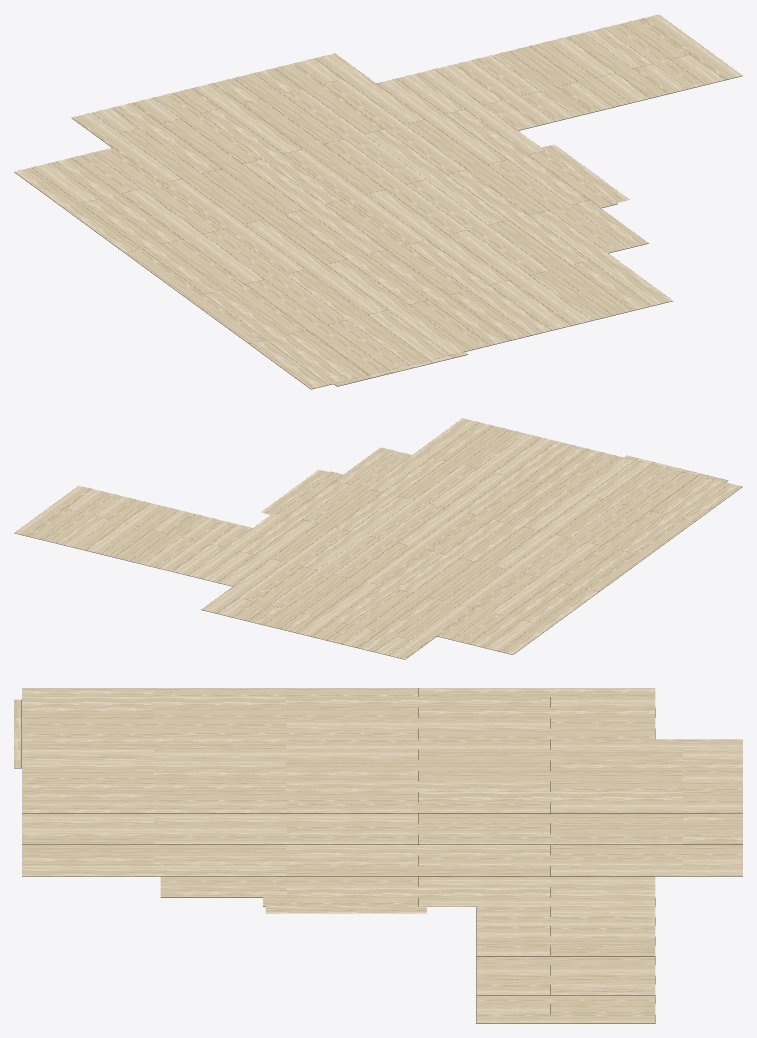
Rendered from SM_MB_Vinyl_Floor_1.fbx.
3 renders of one model, top to bottom at view 1: azimuth 30°, elevation 25°; view 2: azimuth 150°, elevation 25°; view 3: azimuth 270°, elevation 25°, orthographic. The views are drawn at different scales.
Parts seen in each view (by area): view 1: SM_MB_Vinyl_Floor_1; view 2: SM_MB_Vinyl_Floor_1; view 3: SM_MB_Vinyl_Floor_1.
Part boxes in pixels (x1,y1,x2,y2): SM_MB_Vinyl_Floor_1: [14, 14, 742, 389]; SM_MB_Vinyl_Floor_1: [14, 418, 742, 659]; SM_MB_Vinyl_Floor_1: [14, 688, 742, 1023].
Size of the model in its own units: 458 by 0.2086 by 420.
